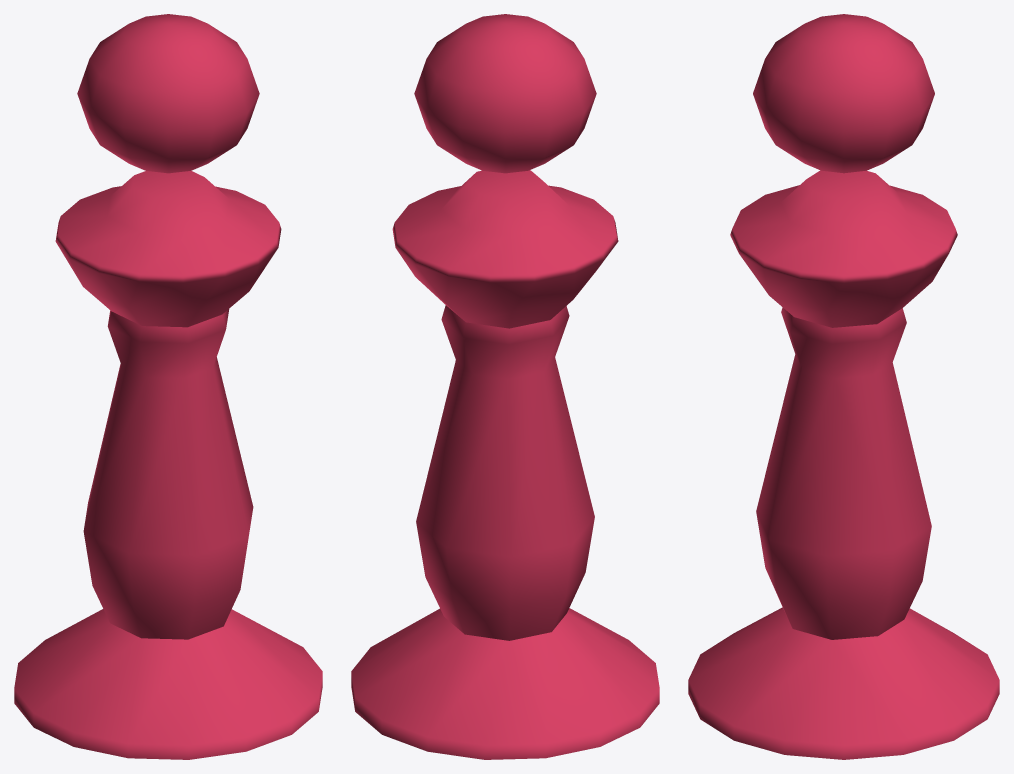
File: mod_sc_roma_001_chess_001.FBX
3 views of the same model, side by side, from view 1: azimuth 30°, elevation 25°; view 2: azimuth 150°, elevation 25°; view 3: azimuth 270°, elevation 25° (orthographic).
Parts seen in each view (by area): view 1: mod_sc_roma_001_chess_001; view 2: mod_sc_roma_001_chess_001; view 3: mod_sc_roma_001_chess_001.
Part boxes in pixels (x1,y1,x2,y2): mod_sc_roma_001_chess_001: [14, 14, 322, 759]; mod_sc_roma_001_chess_001: [351, 14, 659, 759]; mod_sc_roma_001_chess_001: [688, 14, 999, 759].
Size of what is drawn, in the model's own units: 252 by 600 by 252.
